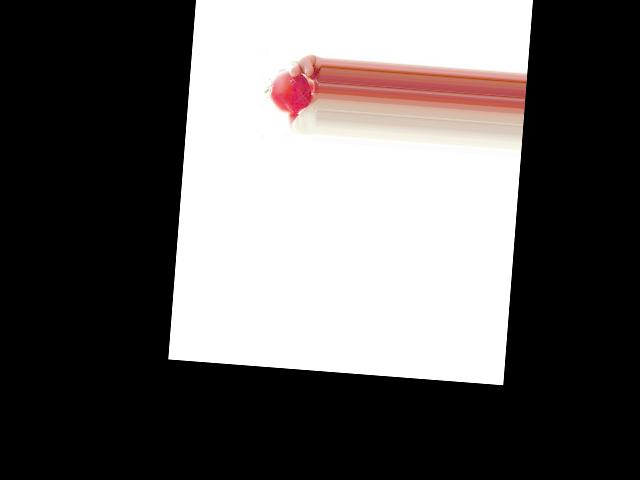tomato: (267, 68, 313, 115)
